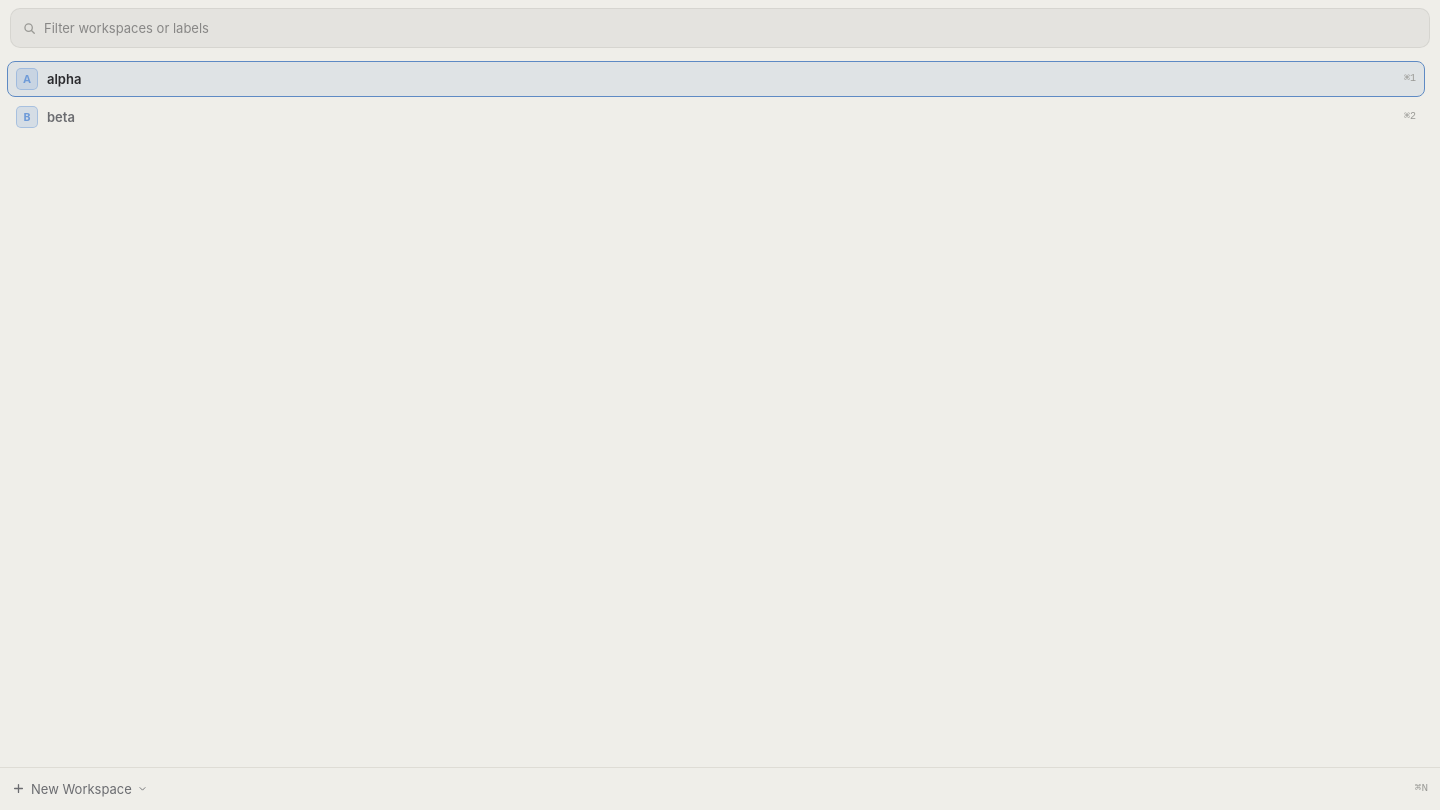
Test: workspace delete gate › reports every kind, including inactive sessions
Right-click the option with test id "workspace-row" showing "A alpha ⌘1" at (64, 79), box [8, 62, 1424, 96]
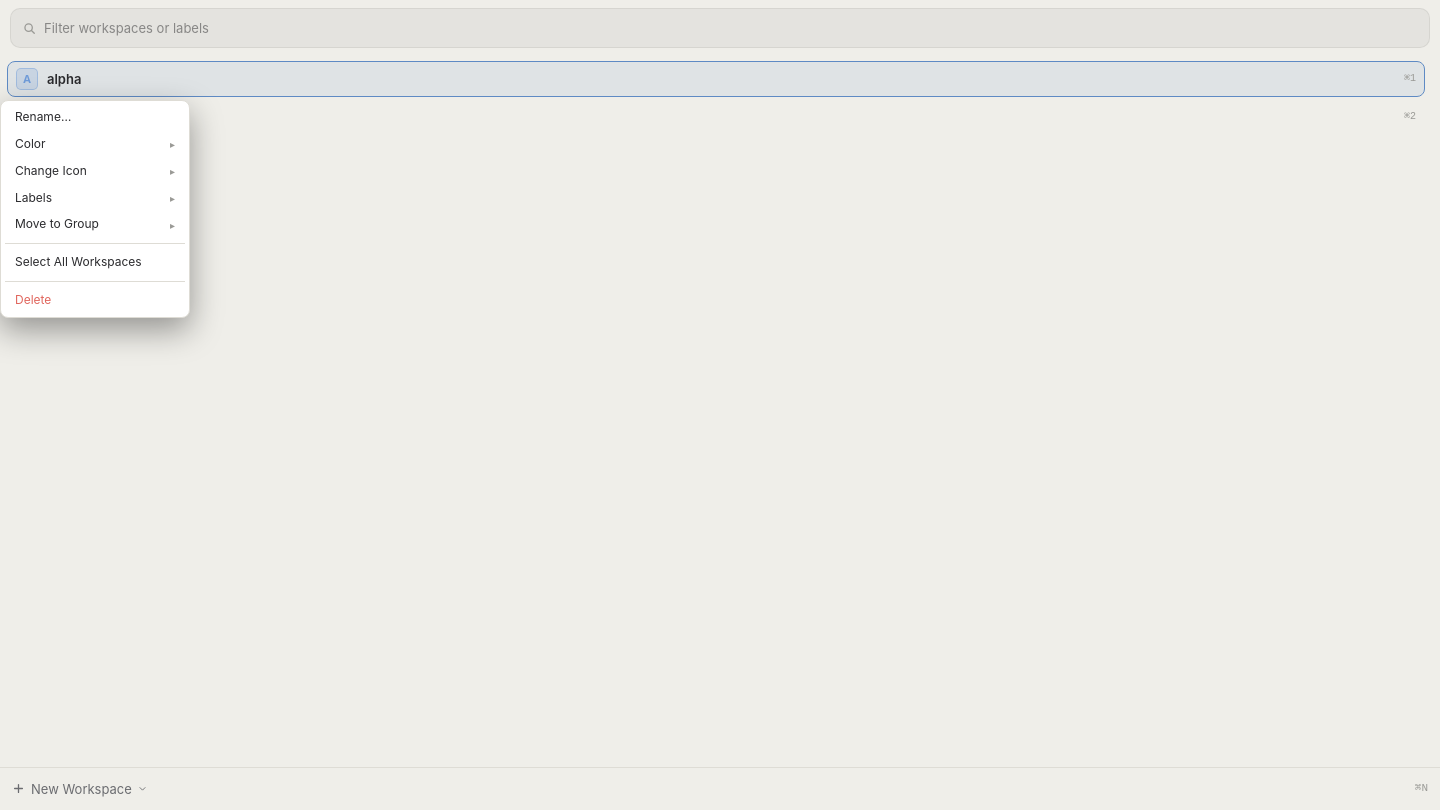
Click the menu item "Delete" at (95, 300), box [5, 288, 185, 313]
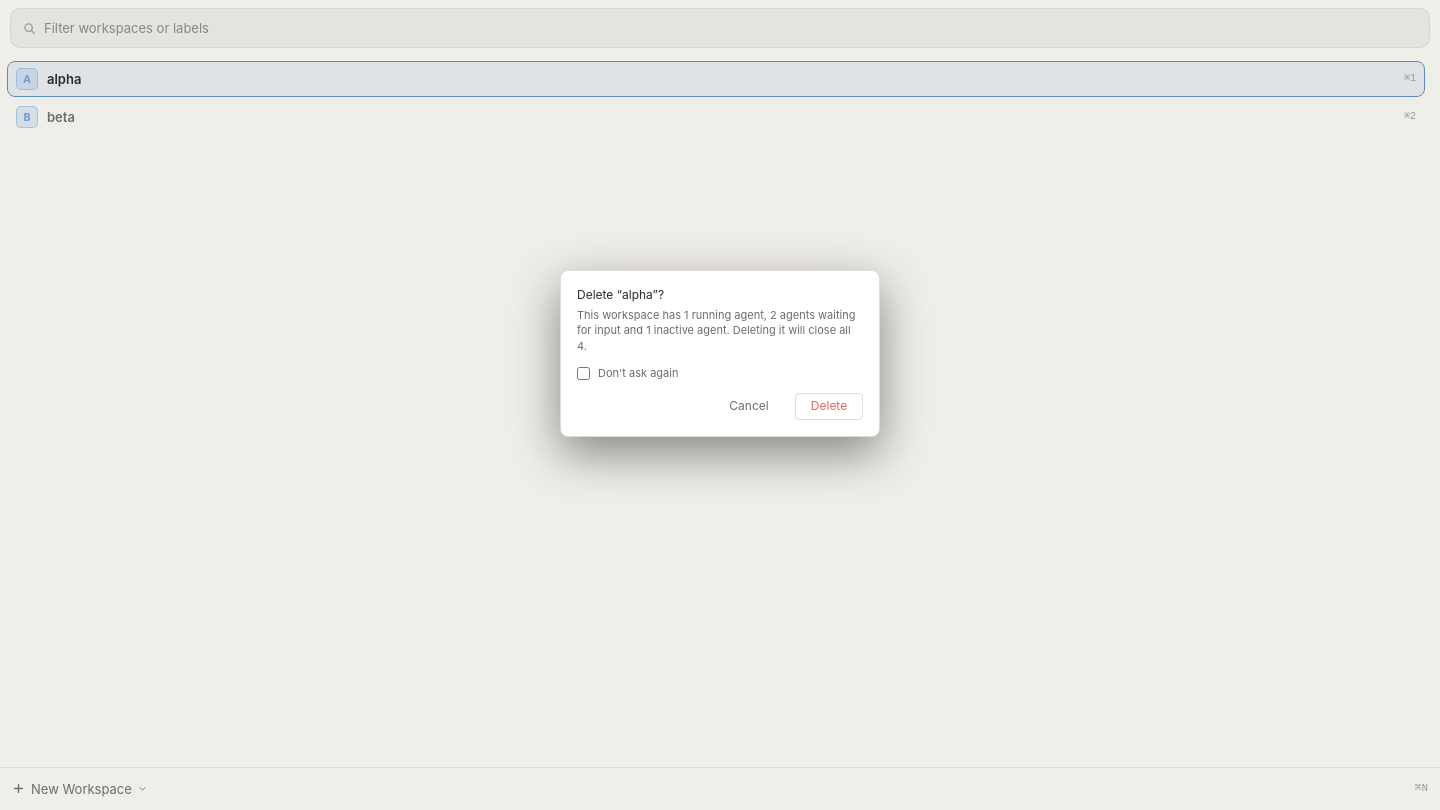
Result: the text with test id "confirm-active-agents" shows "This workspace has 1 running agent, 2 agents waiting for input and 1 inactive agent. Deleting it will close all 4." at [577, 308, 855, 353]
